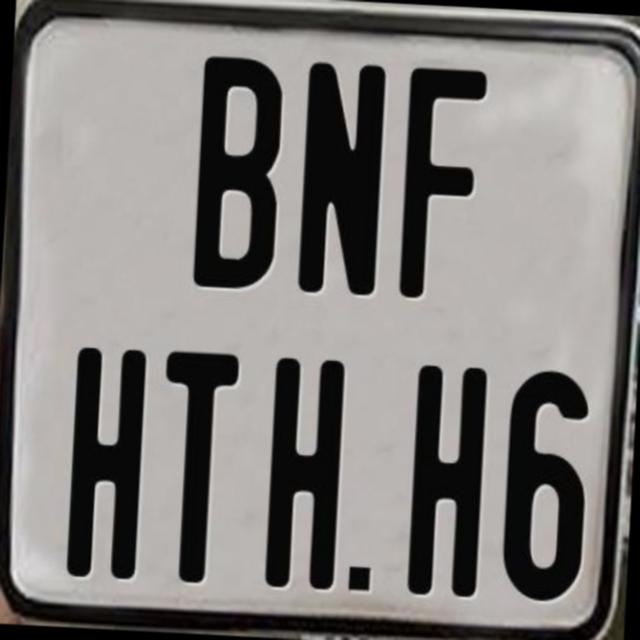6: (500, 367, 595, 611)
B: (188, 52, 280, 288)
F: (398, 65, 492, 300)
H: (405, 360, 490, 600), (262, 353, 342, 590), (66, 346, 146, 582)
N: (294, 59, 386, 294)
T: (151, 347, 242, 589)
